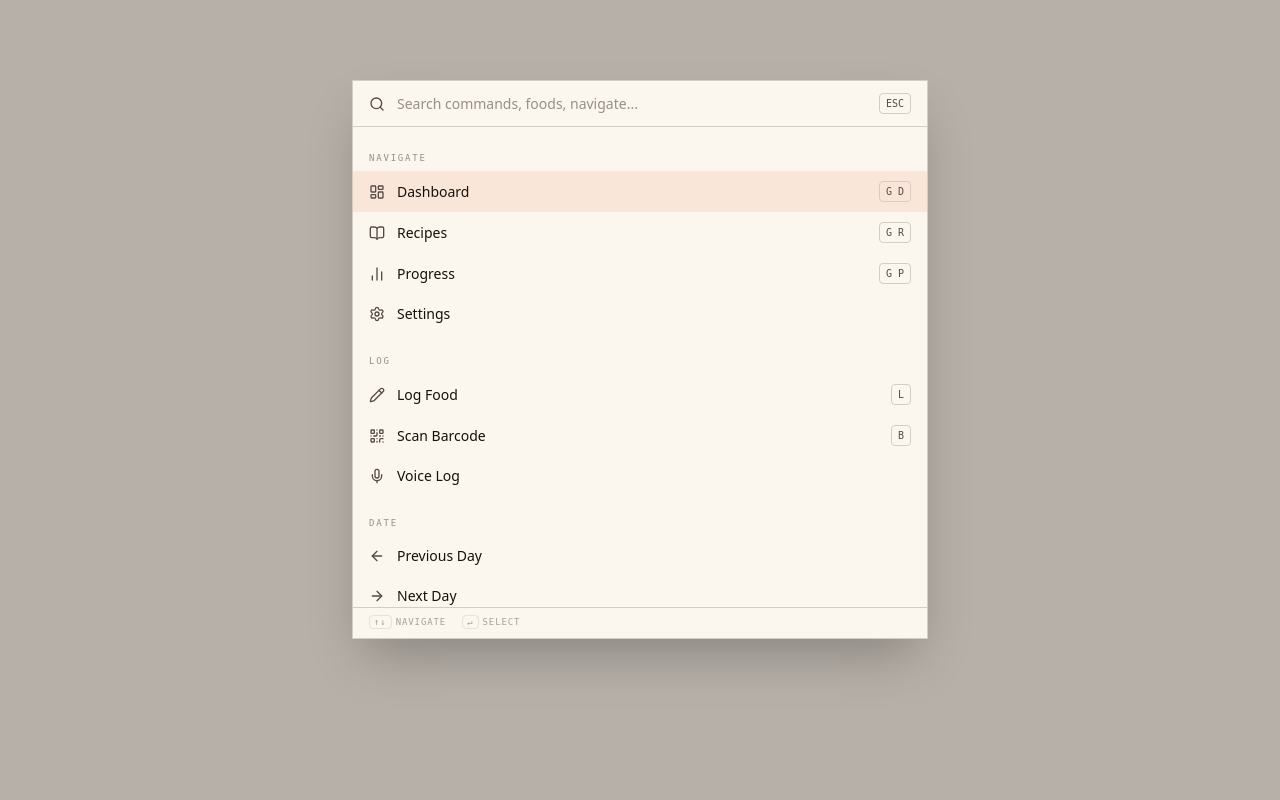
Test: CommandPalette › search filtering › shows No results when nothing matches
In the search field: (632, 104) [397,94,867,114], type "zzznomatch"
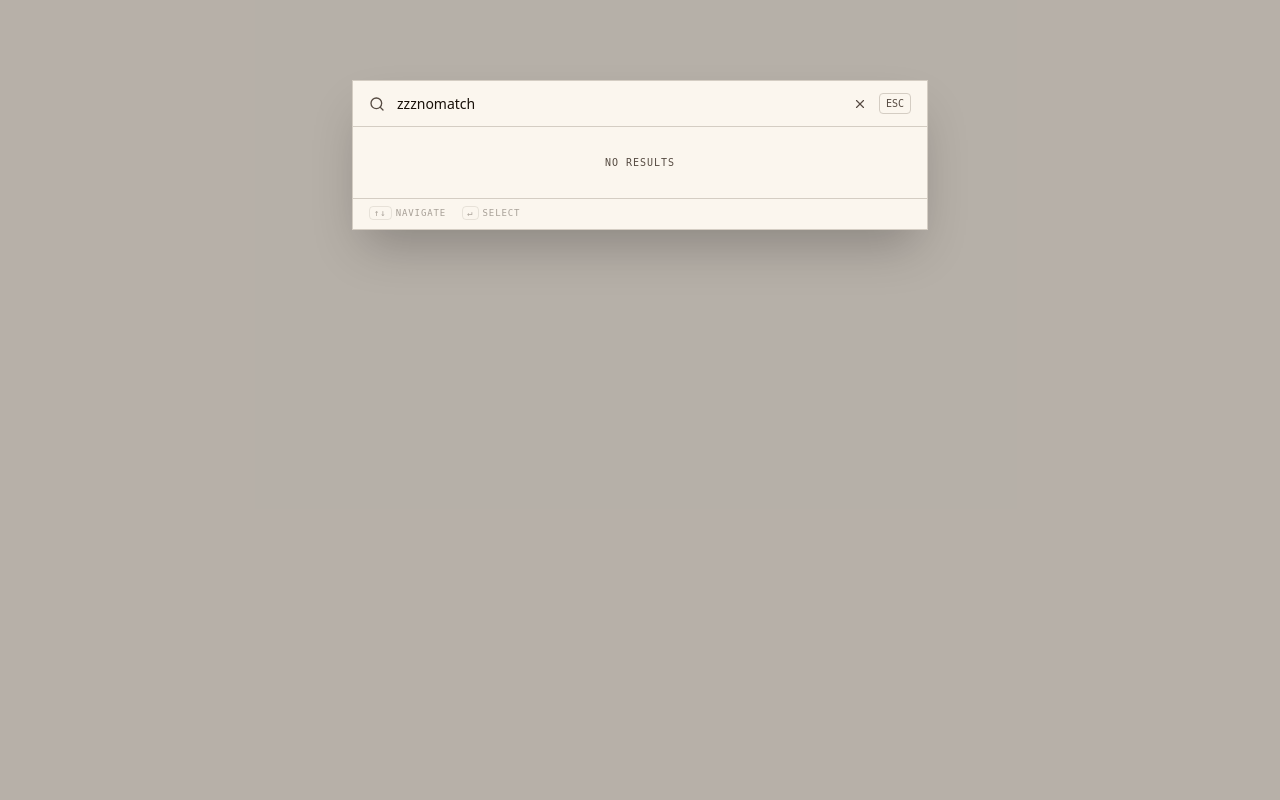
Result: the text "No results" is shown at [605,157,675,168]
